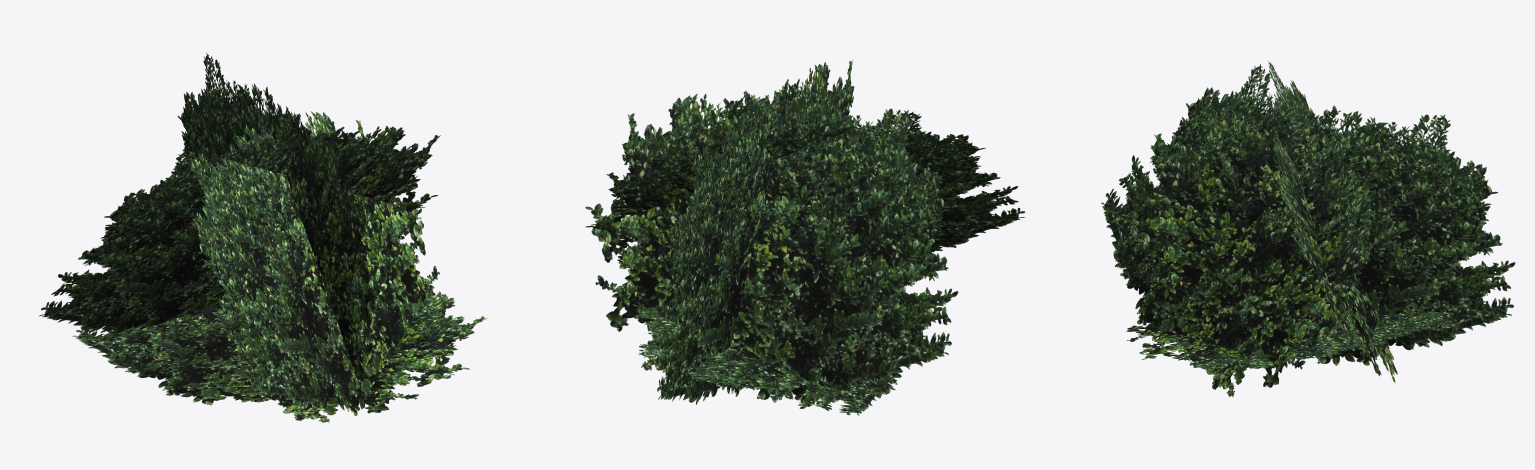
Rendered from bush.glb.
The picture shows the model from 3 angles, left to right: view 1: azimuth 30°, elevation 25°; view 2: azimuth 150°, elevation 25°; view 3: azimuth 270°, elevation 25°; orthographic projection. The views are drawn at different scales.
Parts seen in each view (by area): view 1: BushSmall_bushType1_0; view 2: BushSmall_bushType1_0; view 3: BushSmall_bushType1_0.
Boxes of the visible parts, x1,y1,x2,y2 form: BushSmall_bushType1_0: (39,52,487,422); BushSmall_bushType1_0: (585,60,1024,415); BushSmall_bushType1_0: (1101,61,1515,396).
Size of the model in its own units: 3.48 by 2.46 by 3.6.
Materials: 1 (1 with a texture image).
